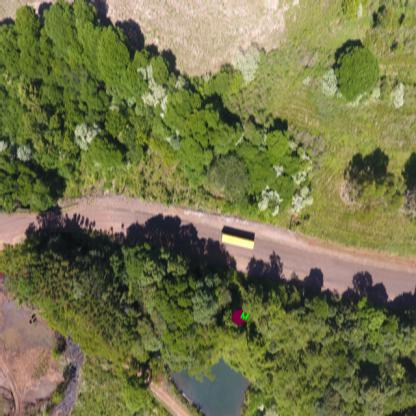M: (240, 310, 250, 322)
hexagon: (230, 308, 247, 326)
